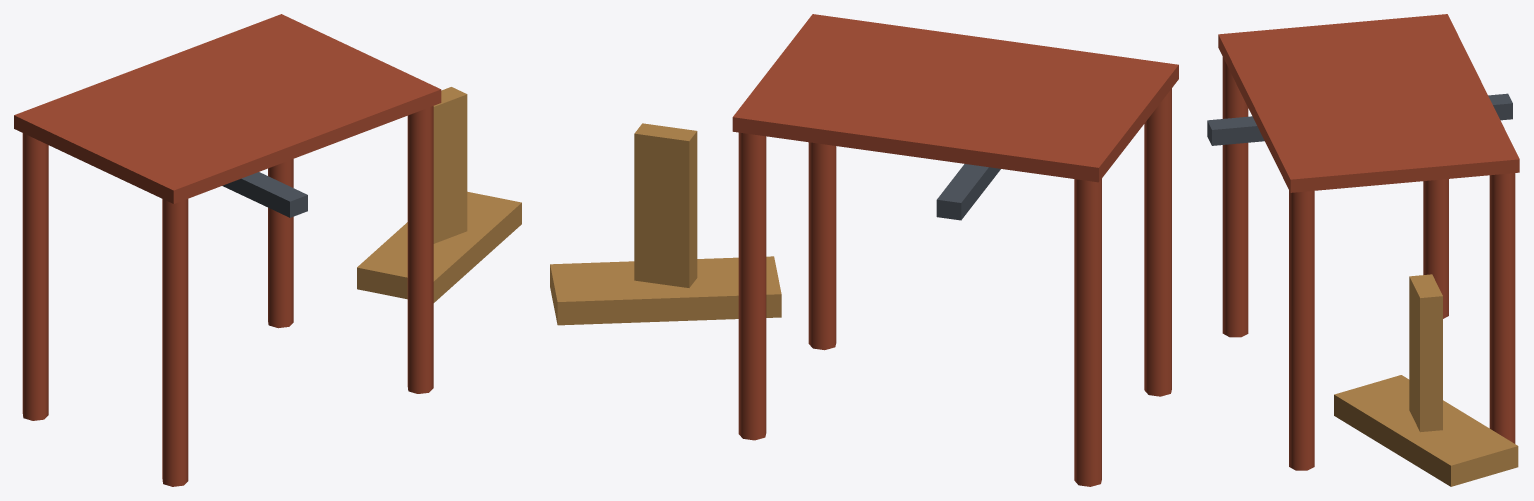
Rendered from cell--45_-450.glb.
The picture shows the model from 3 angles, left to right: view 1: azimuth 30°, elevation 25°; view 2: azimuth 150°, elevation 25°; view 3: azimuth 270°, elevation 25°; orthographic projection. The views are drawn at different scales.
Visible parts, largest first — view 1: cell--45_-450; view 2: cell--45_-450; view 3: cell--45_-450.
Boxes of the visible parts, box(x1,y1,x2,y2) form: cell--45_-450: box(14, 14, 521, 486); cell--45_-450: box(550, 14, 1178, 486); cell--45_-450: box(1207, 14, 1519, 486).
Size of the model in its own units: 1.97 by 1.11 by 1.07.
